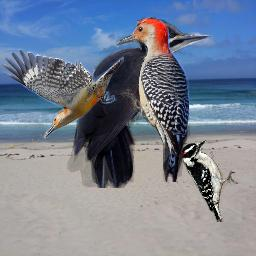Woodpecker: (67, 16, 213, 188), (116, 17, 190, 182), (0, 48, 124, 140), (180, 140, 240, 222)
